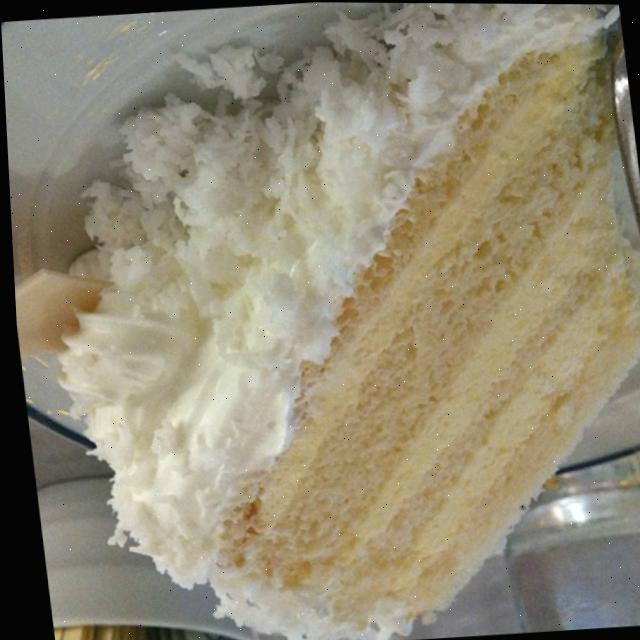蛋糕甜品: (32, 0, 640, 640)
